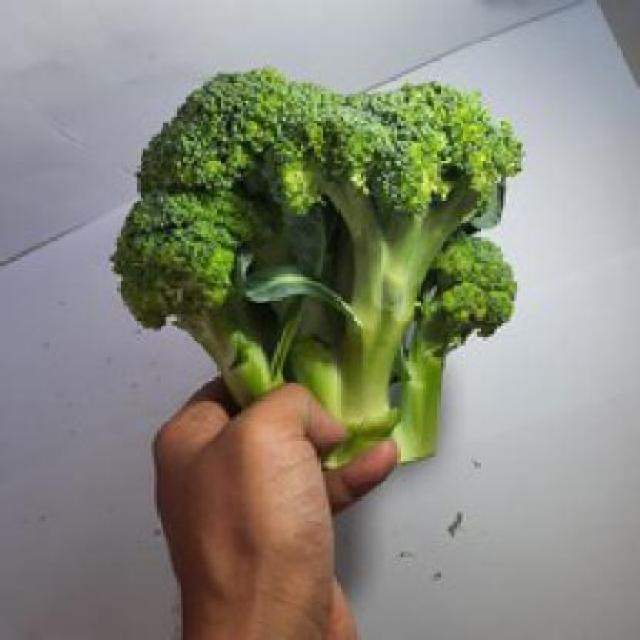broccoli: (110, 64, 556, 467)
